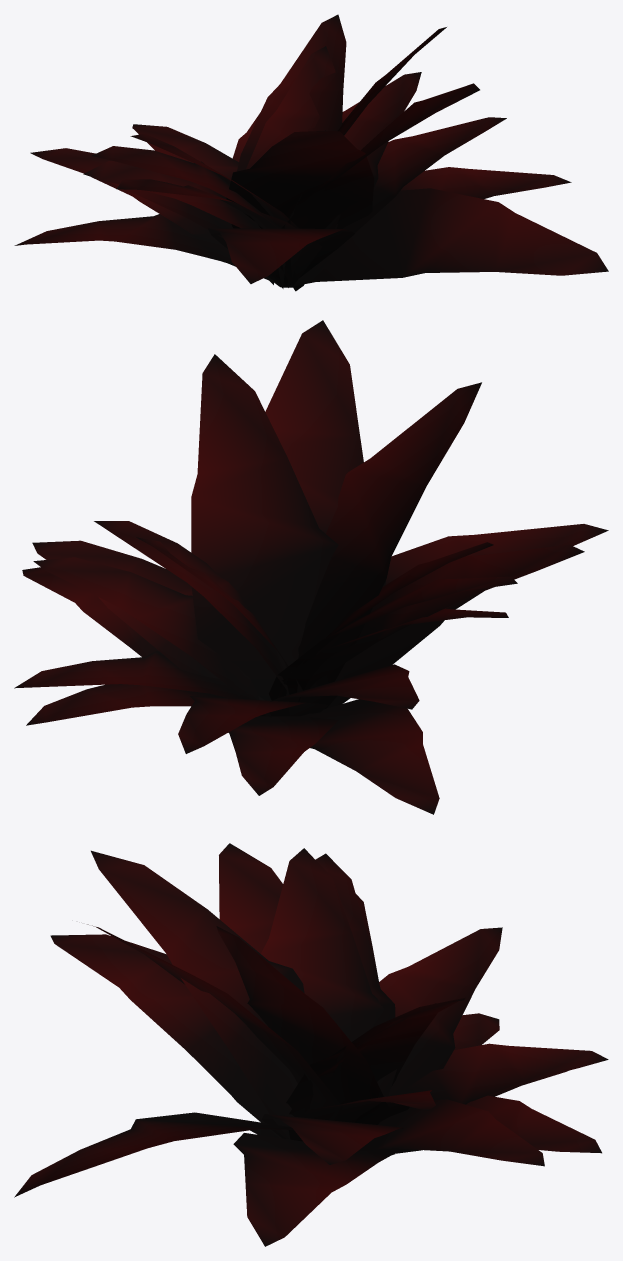
File: Ferns01E.fbx
3 views of the same model, one above another, from view 1: azimuth 30°, elevation 25°; view 2: azimuth 150°, elevation 25°; view 3: azimuth 270°, elevation 25° (orthographic). The views are drawn at different scales.
Visible parts, largest first — view 1: Ferns01E; view 2: Ferns01E; view 3: Ferns01E.
Boxes of the visible parts, x1=… form: Ferns01E: x1=14, y1=14, x2=608, y2=291; Ferns01E: x1=14, y1=320, x2=608, y2=814; Ferns01E: x1=14, y1=843, x2=608, y2=1246.
Size of the model in its own units: 2.96 by 1.61 by 2.8.
